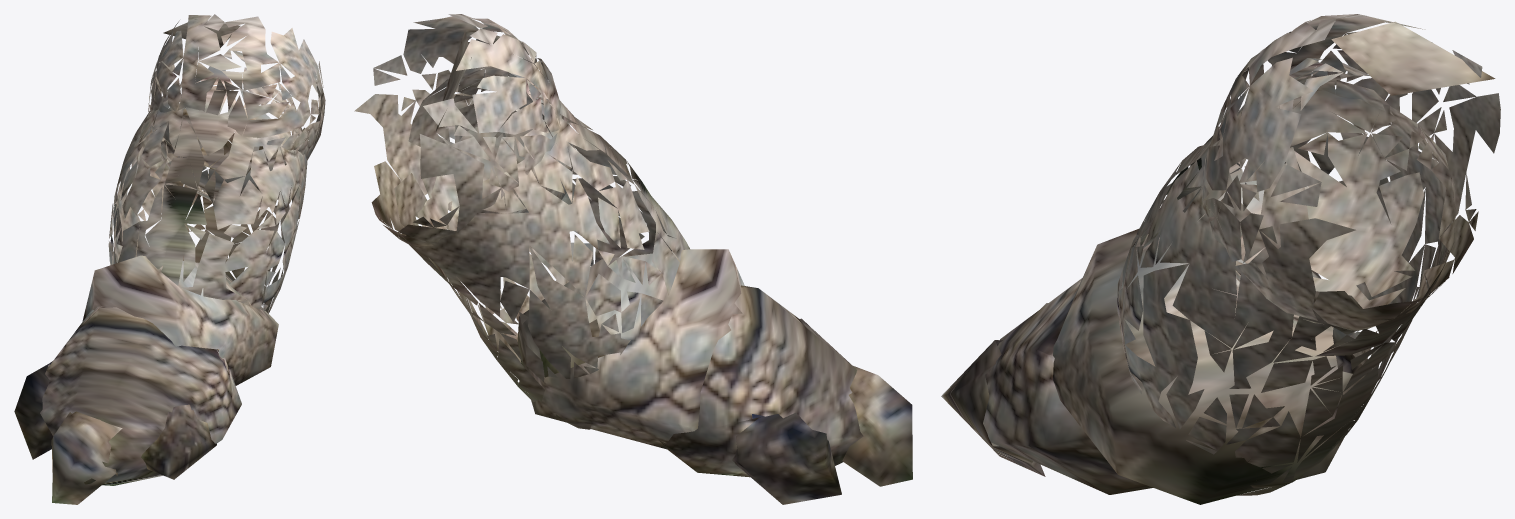
The model's file is tortuga_pata_izq.obj.
The picture shows the model from 3 angles, left to right: view 1: azimuth 30°, elevation 25°; view 2: azimuth 150°, elevation 25°; view 3: azimuth 270°, elevation 25°; orthographic projection. The views are drawn at different scales.
Parts seen in each view (by area): view 1: tortuga_pata_izq; view 2: tortuga_pata_izq; view 3: tortuga_pata_izq.
Part boxes in pixels (x1,y1,x2,y2): tortuga_pata_izq: [14, 14, 325, 504]; tortuga_pata_izq: [354, 14, 912, 504]; tortuga_pata_izq: [941, 14, 1500, 504].
Size of the model in its own units: 0.368 by 0.362 by 0.3116.
1 material, 1 textured.
